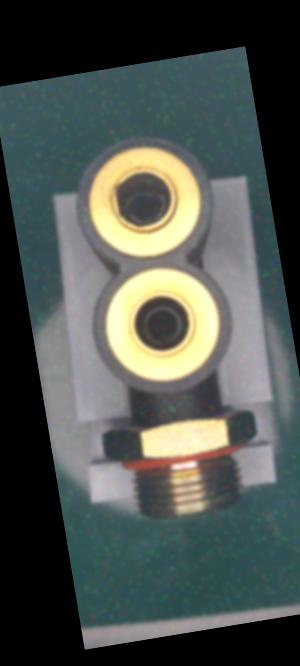craze: (167, 406, 182, 426)
off-centered: (119, 182, 178, 229)
